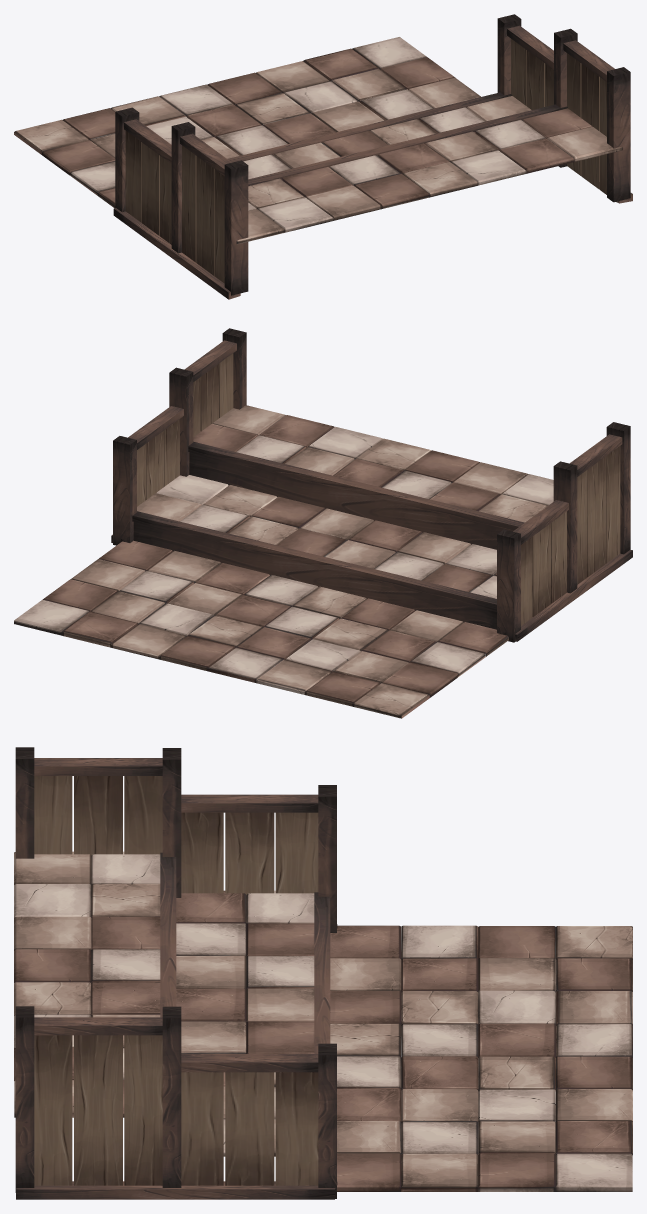
Rendered from Floor_2_Steps_Straight_Walled_End.fbx.
The picture shows the model from 3 angles, top to bottom: view 1: azimuth 30°, elevation 25°; view 2: azimuth 150°, elevation 25°; view 3: azimuth 270°, elevation 25°; orthographic projection. The views are drawn at different scales.
Visible parts, largest first — view 1: Floor_Stairs_2_Steps, Stair_Wood_Wall13; view 2: Floor_Stairs_2_Steps, Stair_Wood_Wall13; view 3: Floor_Stairs_2_Steps, Stair_Wood_Wall13.
Boxes of the visible parts, x1,y1,x2,y2 form: Floor_Stairs_2_Steps: [14, 37, 622, 244]; Stair_Wood_Wall13: [113, 14, 632, 299]; Floor_Stairs_2_Steps: [14, 405, 553, 718]; Stair_Wood_Wall13: [111, 328, 632, 642]; Floor_Stairs_2_Steps: [14, 851, 632, 1191]; Stair_Wood_Wall13: [15, 747, 337, 1199].
Bounding box in the file's own units: 0.6282 × 0.1952 × 0.6006.
